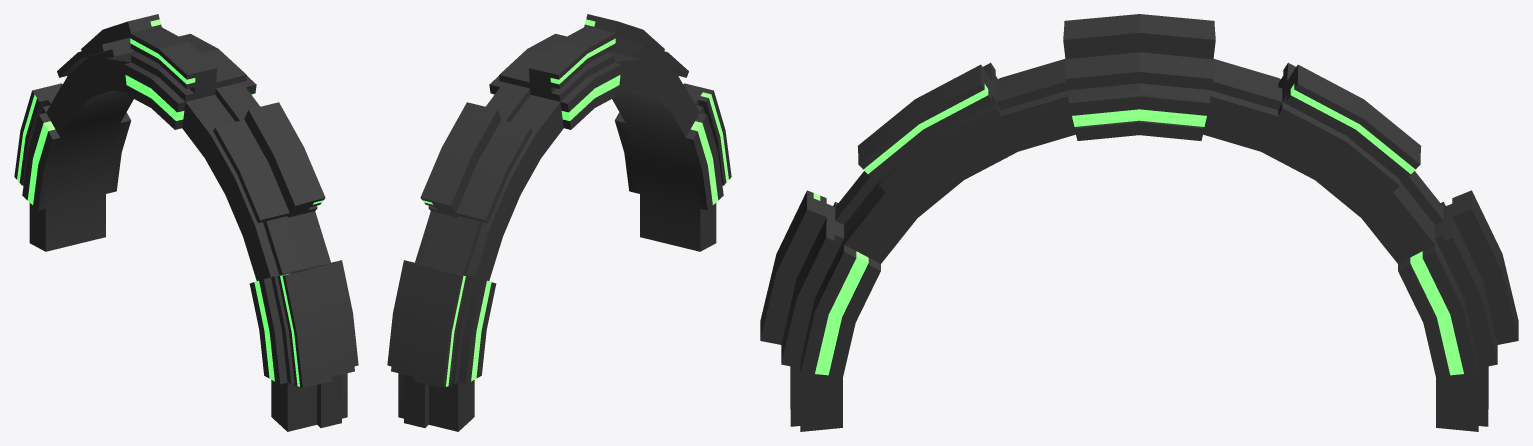
The model's file is gate_ground_green.fbx.
3 views of the same model, side by side, from view 1: azimuth 30°, elevation 25°; view 2: azimuth 150°, elevation 25°; view 3: azimuth 270°, elevation 25° (orthographic). The views are drawn at different scales.
Parts seen in each view (by area): view 1: gate_ground_green; view 2: gate_ground_green; view 3: gate_ground_green.
Boxes of the visible parts, left/top/right/bottom form: gate_ground_green: left=14, top=14, right=358, bottom=431; gate_ground_green: left=387, top=14, right=731, bottom=431; gate_ground_green: left=760, top=14, right=1518, bottom=431.
Size of the model in its own units: 1.12 by 3.95 by 7.14.
